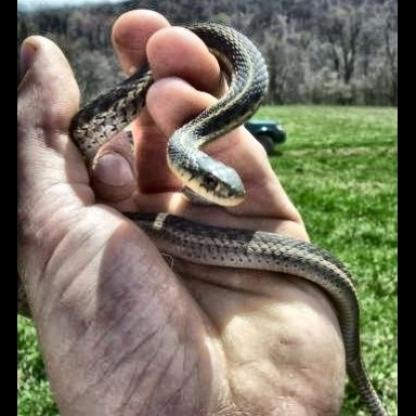Snake: (152, 213, 386, 416), (69, 19, 276, 208)
